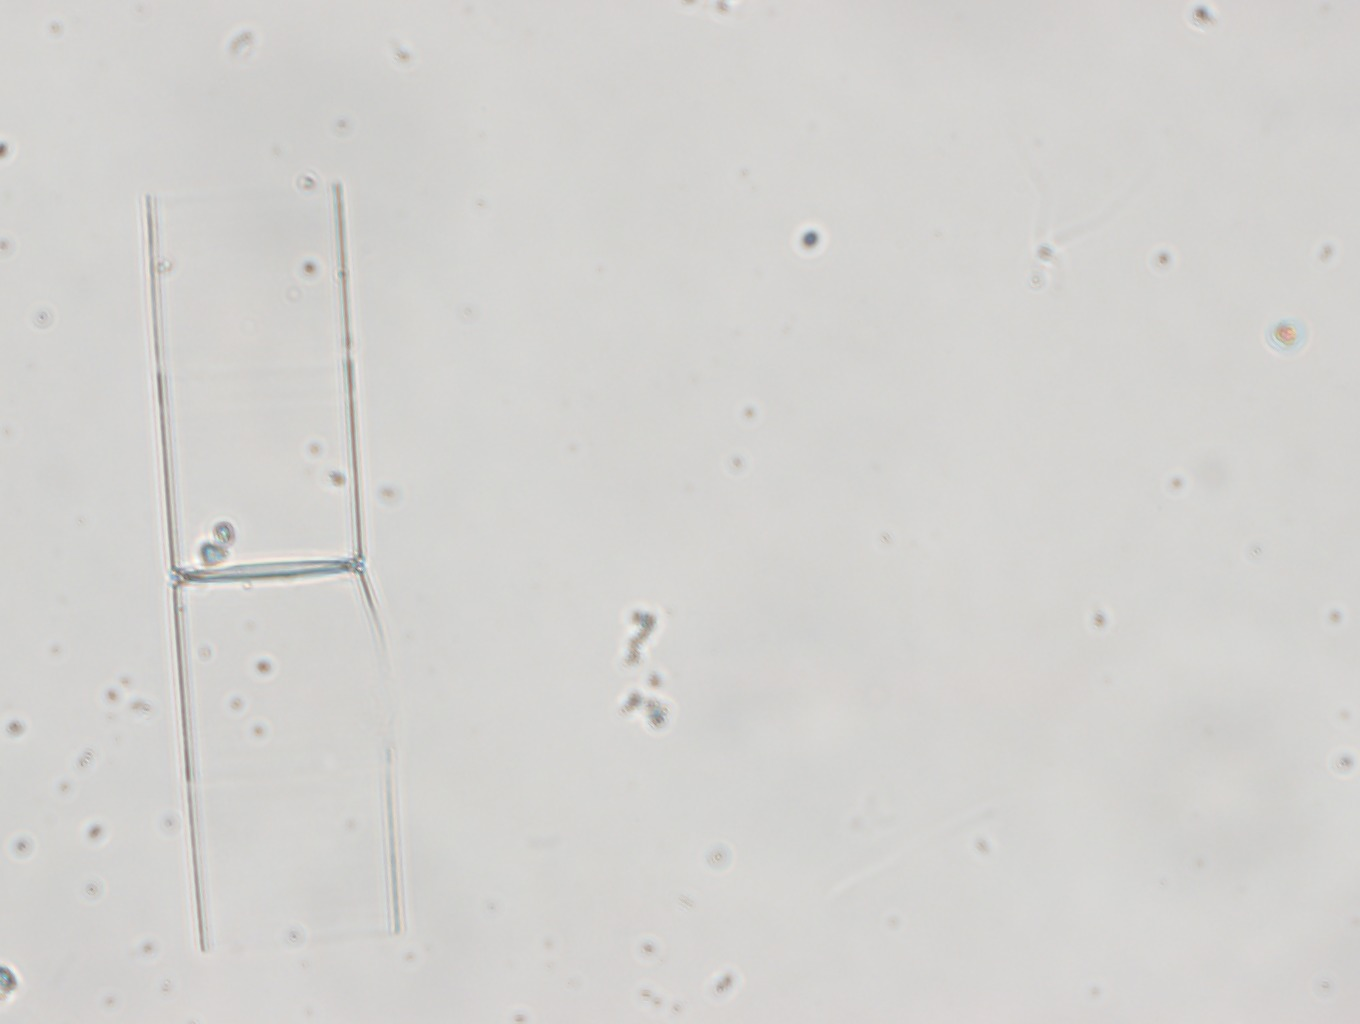guinardia flaccida: (144, 183, 398, 952)
